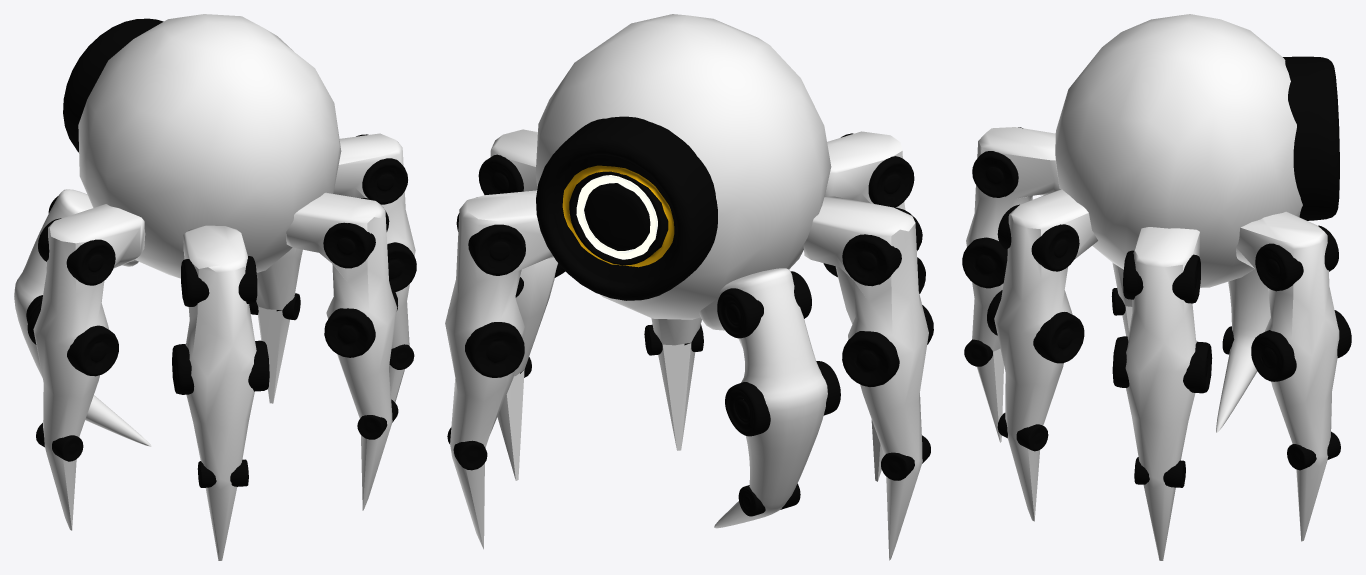
File: Spider_animated.fbx
3 views of the same model, side by side, from view 1: azimuth 30°, elevation 25°; view 2: azimuth 150°, elevation 25°; view 3: azimuth 270°, elevation 25° (orthographic). The views are drawn at different scales.
Parts seen in each view (by area): view 1: Sphere, Subdivision_Surface_2, Subdivision_Surface_3, Subdivision_Surface_4, Subdivision_Surface_6, Subdivision_Surface, Subdivision_Surface_5, Cylinder_37, Cylinder_15, Cylinder_24, Cylinder_14, Cylinder_23 (+9 smaller); view 2: Sphere, Cylinder_37, Subdivision_Surface_3, Subdivision_Surface, Subdivision_Surface_5, Subdivision_Surface_6, Subdivision_Surface_2, Subdivision_Surface_4, Cylinder_12, Cylinder_21, Cylinder_11, Cylinder_20 (+8 smaller); view 3: Sphere, Subdivision_Surface_6, Subdivision_Surface_5, Subdivision_Surface_4, Subdivision_Surface_2, Cylinder_37, Subdivision_Surface, Cylinder_18, Cylinder_30, Cylinder_9, Cylinder_17, Cylinder_29 (+11 smaller).
Boxes of the visible parts, left/top/right/bottom form: Sphere: left=78, top=14, right=341, bottom=278; Subdivision_Surface_2: left=183, top=225, right=256, bottom=560; Subdivision_Surface_3: left=33, top=204, right=145, bottom=530; Subdivision_Surface_4: left=286, top=192, right=397, bottom=510; Subdivision_Surface_6: left=333, top=133, right=415, bottom=402; Subdivision_Surface: left=14, top=189, right=151, bottom=446; Subdivision_Surface_5: left=256, top=247, right=302, bottom=403; Cylinder_37: left=63, top=18, right=163, bottom=152; Cylinder_15: left=324, top=308, right=375, bottom=357; Cylinder_24: left=67, top=325, right=118, bottom=376; Cylinder_14: left=323, top=222, right=372, bottom=268; Cylinder_23: left=45, top=239, right=115, bottom=285; Sphere: left=535, top=14, right=831, bottom=319; Cylinder_37: left=536, top=116, right=717, bottom=300; Subdivision_Surface_3: left=803, top=196, right=928, bottom=560; Subdivision_Surface: left=699, top=268, right=827, bottom=528; Subdivision_Surface_5: left=445, top=190, right=553, bottom=549; Subdivision_Surface_6: left=490, top=129, right=557, bottom=480; Subdivision_Surface_2: left=824, top=131, right=905, bottom=481; Subdivision_Surface_4: left=651, top=317, right=701, bottom=450; Cylinder_12: left=465, top=322, right=524, bottom=377; Cylinder_21: left=842, top=331, right=899, bottom=386; Cylinder_11: left=468, top=224, right=525, bottom=275; Cylinder_20: left=842, top=234, right=897, bottom=286; Sphere: left=1055, top=14, right=1302, bottom=287; Subdivision_Surface_6: left=1125, top=227, right=1199, bottom=560; Subdivision_Surface_5: left=1236, top=211, right=1339, bottom=541; Subdivision_Surface_4: left=994, top=189, right=1097, bottom=521; Subdivision_Surface_2: left=966, top=127, right=1059, bottom=442; Cylinder_37: left=1283, top=56, right=1339, bottom=220; Subdivision_Surface: left=1216, top=269, right=1270, bottom=432; Cylinder_18: left=1033, top=312, right=1084, bottom=363; Cylinder_30: left=962, top=237, right=1007, bottom=288; Cylinder_9: left=1251, top=330, right=1296, bottom=381; Cylinder_17: left=1006, top=224, right=1079, bottom=271; Cylinder_29: left=972, top=151, right=1018, bottom=197.
Size of the model in its own units: 309 by 354 by 273.
